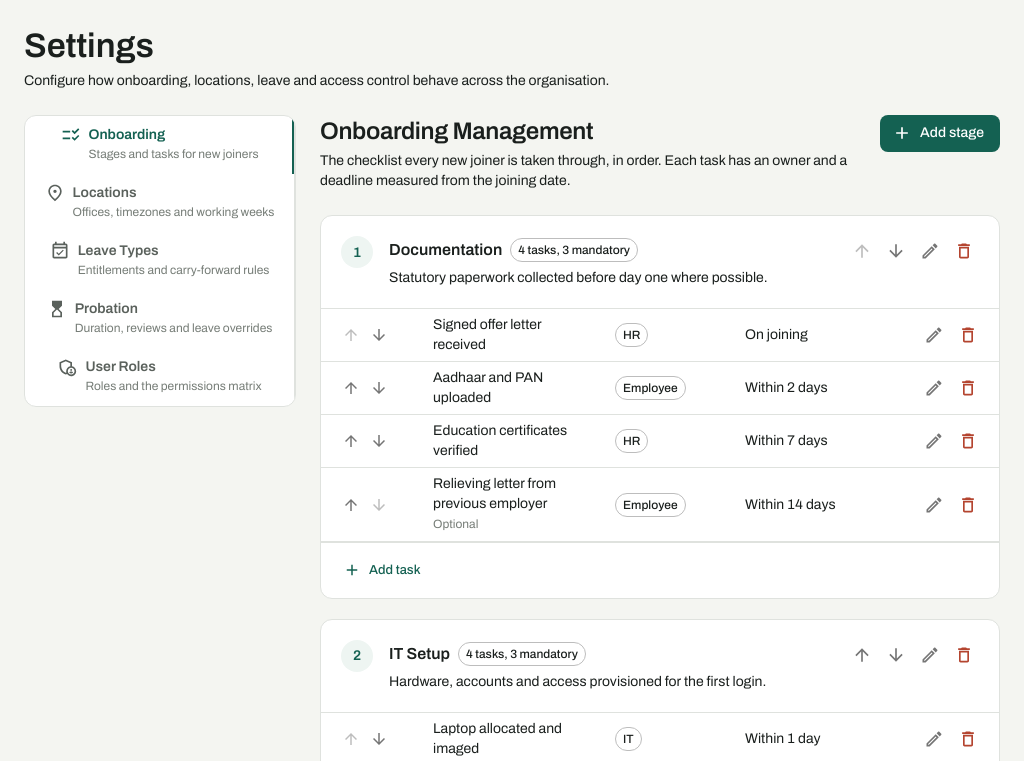
it: SettingsPage › grants a whole module from the role permission matrix
The width and height of the screenshot is (1024, 761).
Expected: the heading "Onboarding Management" is shown, [320,118,593,144]
Step 1. Click the tab "User Roles Roles and the permissions matrix" → (160, 377), box [25,348,294,406]
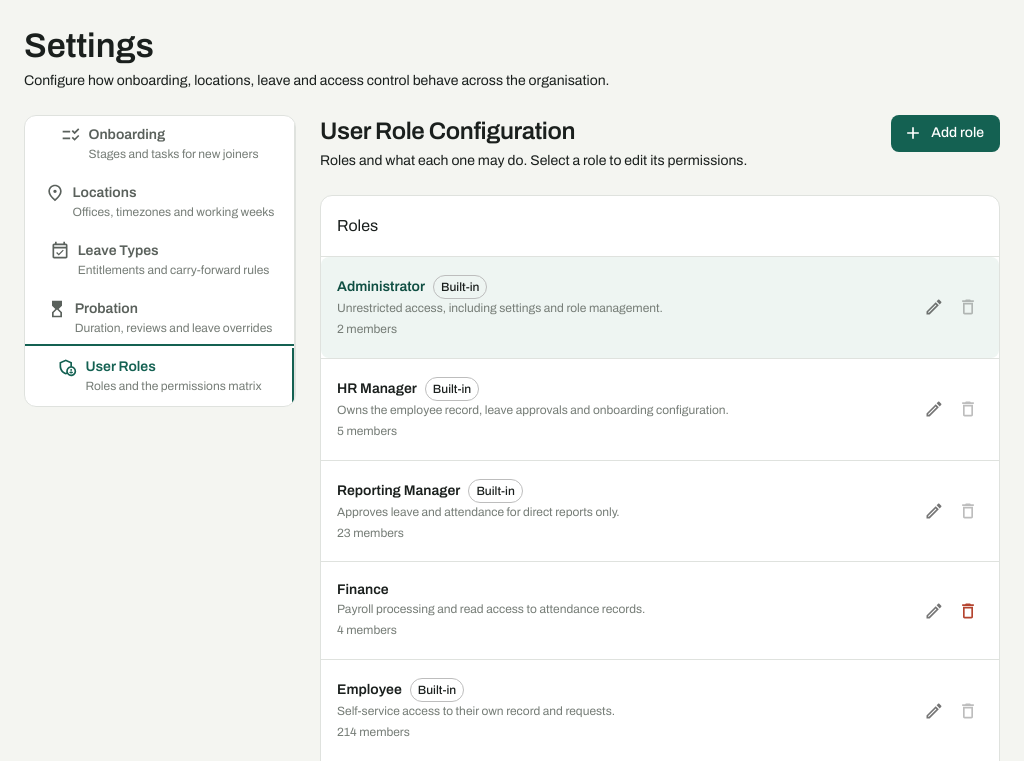
Expected: the heading "User Role Configuration" is shown, [320,118,575,144]
Step 2. Click the button "Finance" → (491, 610), box [337,582,645,637]
(page scrolled)
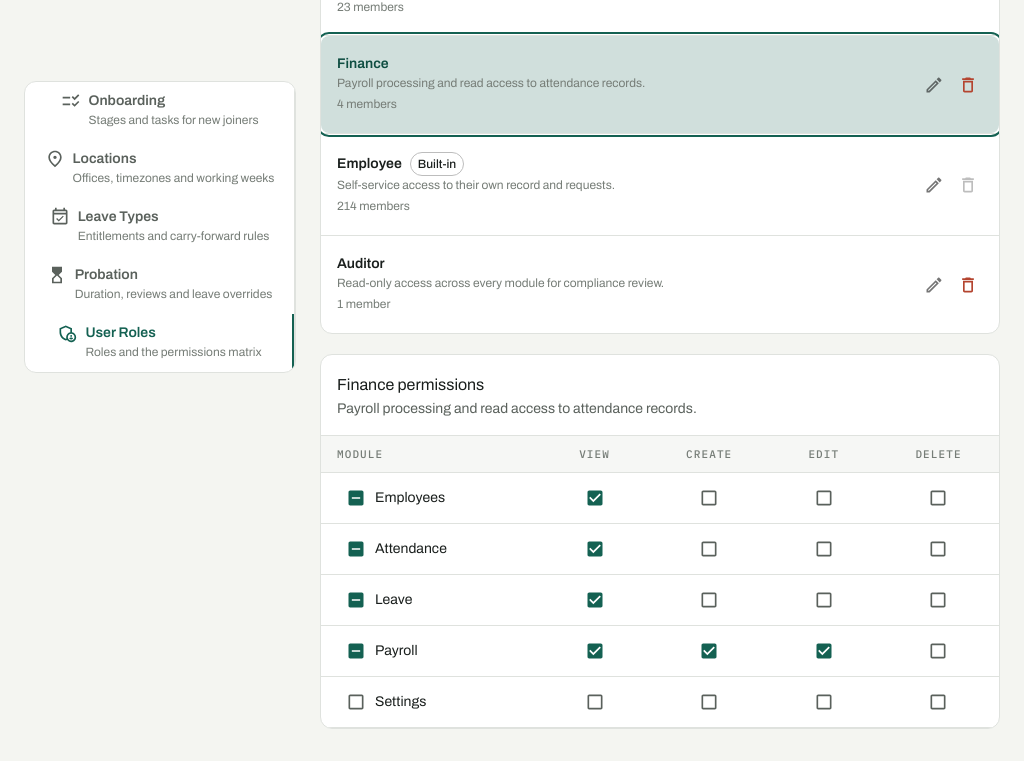
Expected: the checkbox named "All Settings permissions for Finance" is not checked
Step 3. Click the checkbox named "All Settings permissions for Finance" → (356, 702), box [346,692,366,712]
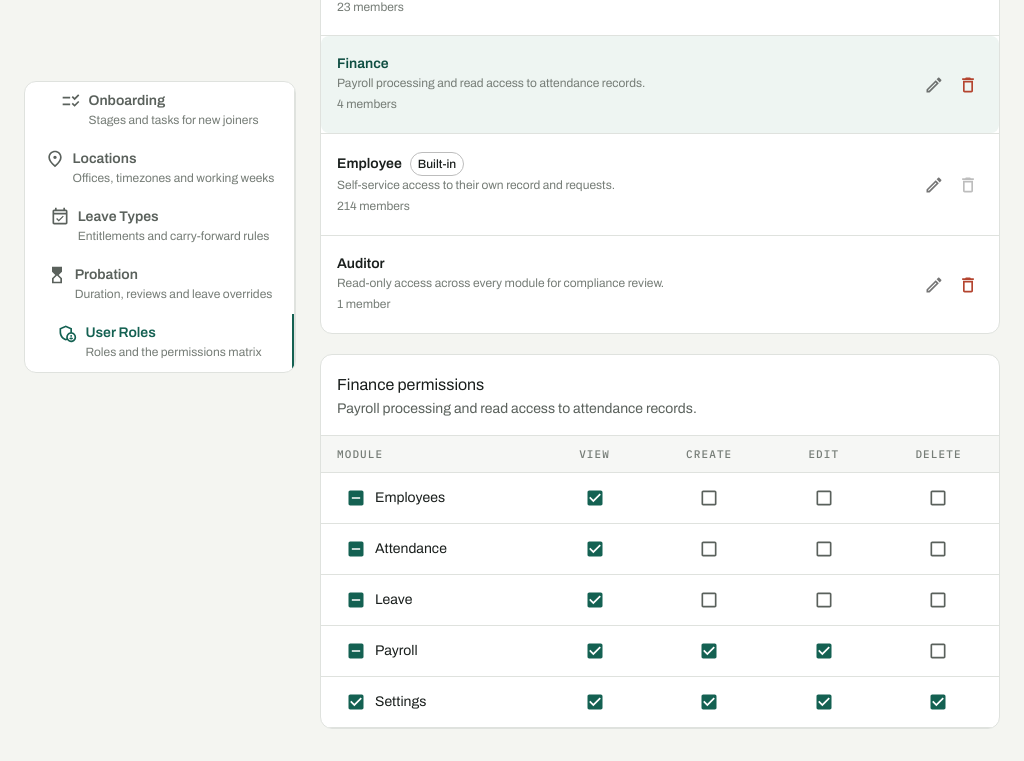
Expected: the checkbox named "All Settings permissions for Finance" is checked, [346,692,366,712]
Expected: the checkbox named "Delete Settings — Finance" is checked, [928,692,948,712]
